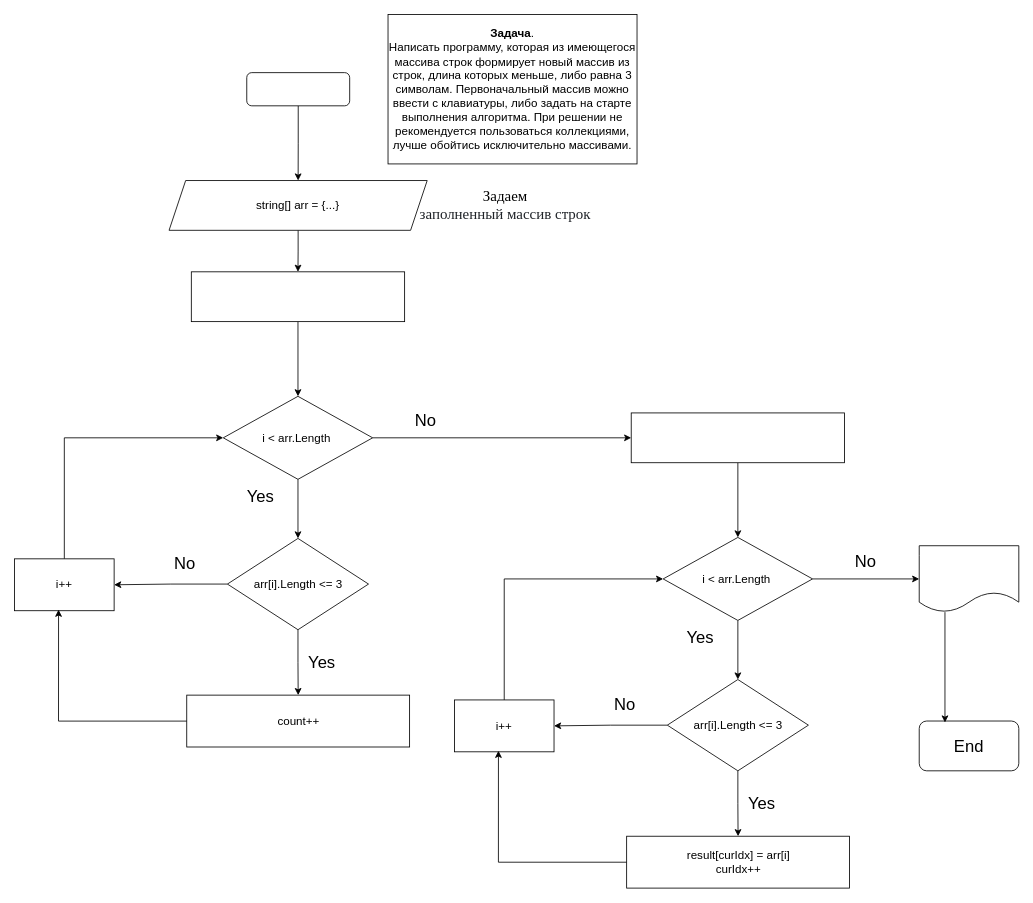
Some shapes in this 1033 by 903 pixel diagram are drawn without their labels. The centre of each missing label's shape, as x and y in pixels:
int count = 0 int i = 0: point 297,296
return result: point 968,578
Start: point 298,89
string[] result = {} int i = 0 int curIdx = 0: point 737,437
